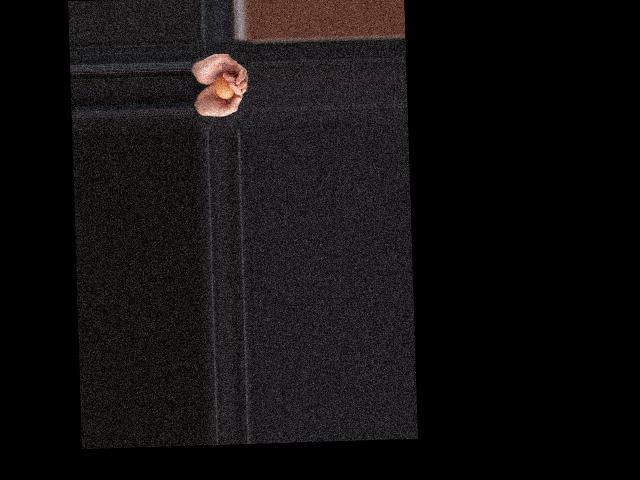egg: (213, 74, 233, 99)
